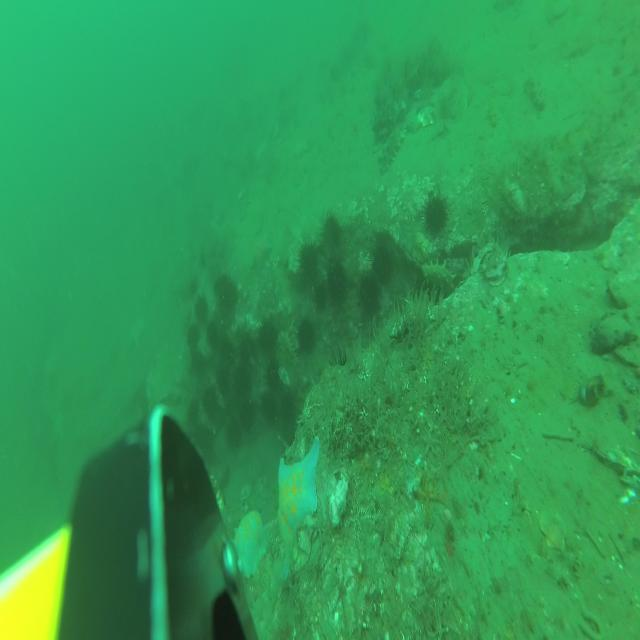echinus: (420, 190, 452, 242), (368, 240, 396, 289), (357, 269, 382, 323), (319, 210, 344, 257), (329, 348, 352, 389), (328, 264, 350, 306), (295, 318, 317, 358), (298, 241, 318, 285), (257, 316, 277, 354), (280, 391, 298, 429), (233, 366, 251, 401), (189, 350, 207, 378), (262, 389, 277, 419), (226, 420, 241, 450), (266, 359, 280, 391), (213, 272, 229, 300), (198, 428, 214, 456), (240, 334, 254, 364), (224, 284, 239, 312), (193, 292, 207, 322), (314, 283, 328, 313), (186, 397, 198, 430), (240, 400, 253, 430), (187, 322, 200, 352), (216, 366, 230, 392), (208, 404, 223, 428), (221, 337, 234, 364), (201, 386, 214, 412), (189, 276, 201, 300), (207, 318, 217, 345)
holothurian: (421, 258, 457, 306), (378, 122, 407, 176), (525, 74, 546, 112), (493, 0, 517, 16), (488, 103, 500, 128)
scallop: (539, 508, 567, 552), (417, 104, 437, 129), (238, 479, 252, 503)
starfish: (276, 434, 320, 580), (234, 509, 266, 578), (412, 474, 447, 521), (250, 234, 272, 277), (379, 469, 395, 498), (358, 453, 370, 477)
